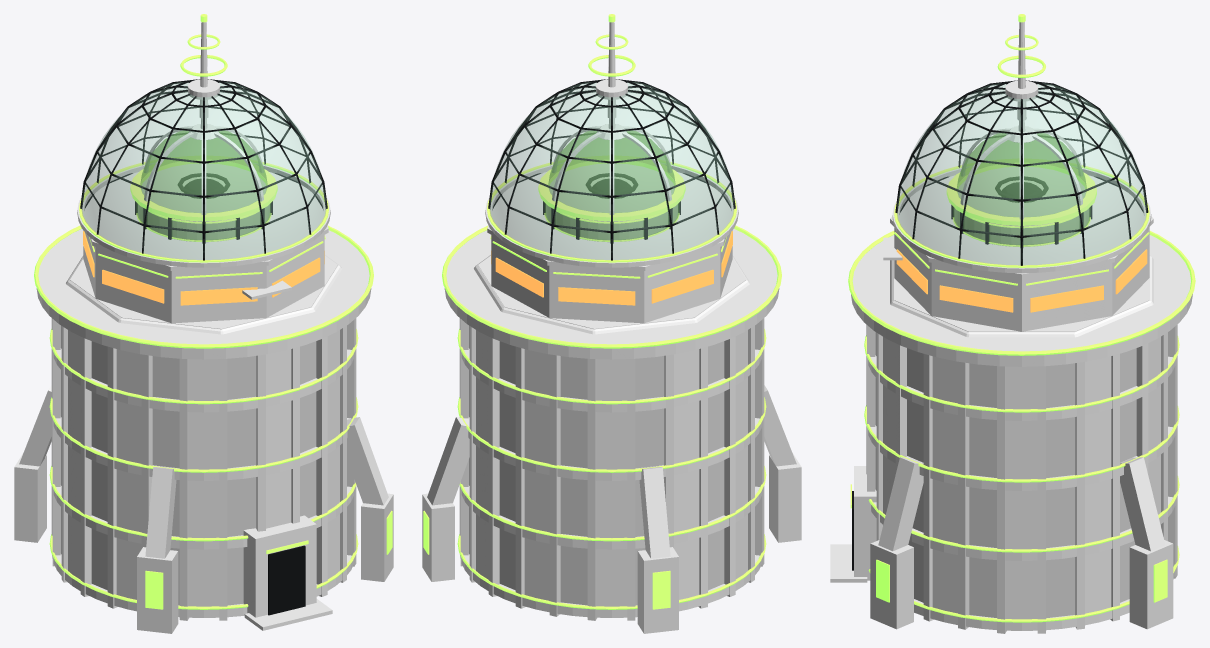
File: sb_lab_t3.glb
3 views of the same model, side by side, from view 1: azimuth 30°, elevation 25°; view 2: azimuth 150°, elevation 25°; view 3: azimuth 270°, elevation 25° (orthographic). The views are drawn at different scales.
Parts seen in each view (by area): view 1: SM_LAB2_GREAT_DOME, SM_LAB3_RIBS, SM_LAB3_WALL, SM_LAB3_GLASS, SM_LAB3_BUTTRESS, SM_LAB3_CROWN, SM_LAB2_HALL, SM_LAB2_HALL_ROOF, SM_LAB3_GLOW, SM_LAB3_FLOORS, SM_LAB2_GREAT_FRAME, SM_LAB_DOME (+15 smaller); view 2: SM_LAB2_GREAT_DOME, SM_LAB3_RIBS, SM_LAB3_WALL, SM_LAB3_GLASS, SM_LAB3_BUTTRESS, SM_LAB3_CROWN, SM_LAB2_HALL, SM_LAB3_GLOW, SM_LAB2_HALL_ROOF, SM_LAB3_FLOORS, SM_LAB2_GREAT_FRAME, SM_LAB_DOME (+13 smaller); view 3: SM_LAB2_GREAT_DOME, SM_LAB3_RIBS, SM_LAB3_WALL, SM_LAB3_GLASS, SM_LAB3_CROWN, SM_LAB3_BUTTRESS, SM_LAB2_HALL, SM_LAB2_HALL_ROOF, SM_LAB3_GLOW, SM_LAB3_FLOORS, SM_LAB2_GREAT_FRAME, SM_LAB_DOME (+15 smaller).
Part boxes in pixels (x1=…): SM_LAB2_GREAT_DOME: x1=81, y1=82, x2=326, y2=259; SM_LAB3_RIBS: x1=51, y1=318, x2=356, y2=620; SM_LAB3_WALL: x1=60, y1=325, x2=339, y2=606; SM_LAB3_GLASS: x1=61, y1=325, x2=316, y2=605; SM_LAB3_BUTTRESS: x1=14, y1=385, x2=393, y2=633; SM_LAB3_CROWN: x1=36, y1=229, x2=371, y2=359; SM_LAB2_HALL: x1=83, y1=230, x2=324, y2=323; SM_LAB2_HALL_ROOF: x1=79, y1=172, x2=328, y2=270; SM_LAB3_GLOW: x1=34, y1=225, x2=392, y2=609; SM_LAB3_FLOORS: x1=52, y1=348, x2=353, y2=617; SM_LAB2_GREAT_FRAME: x1=80, y1=79, x2=327, y2=260; SM_LAB_DOME: x1=140, y1=130, x2=267, y2=212; SM_LAB2_GREAT_DOME: x1=489, y1=82, x2=734, y2=259; SM_LAB3_RIBS: x1=459, y1=318, x2=764, y2=620; SM_LAB3_WALL: x1=468, y1=325, x2=747, y2=606; SM_LAB3_GLASS: x1=469, y1=325, x2=724, y2=605; SM_LAB3_BUTTRESS: x1=422, y1=385, x2=801, y2=633; SM_LAB3_CROWN: x1=444, y1=229, x2=779, y2=359; SM_LAB2_HALL: x1=491, y1=230, x2=732, y2=323; SM_LAB3_GLOW: x1=423, y1=225, x2=781, y2=609; SM_LAB2_HALL_ROOF: x1=487, y1=172, x2=736, y2=270; SM_LAB3_FLOORS: x1=460, y1=348, x2=761, y2=617; SM_LAB2_GREAT_FRAME: x1=488, y1=79, x2=735, y2=260; SM_LAB_DOME: x1=548, y1=130, x2=675, y2=212; SM_LAB2_GREAT_DOME: x1=897, y1=83, x2=1146, y2=265; SM_LAB3_RIBS: x1=866, y1=324, x2=1177, y2=633; SM_LAB3_WALL: x1=875, y1=332, x2=1160, y2=619; SM_LAB3_GLASS: x1=875, y1=332, x2=1136, y2=618; SM_LAB3_CROWN: x1=851, y1=235, x2=1192, y2=366; SM_LAB3_BUTTRESS: x1=870, y1=457, x2=1173, y2=629; SM_LAB2_HALL: x1=894, y1=227, x2=1149, y2=331; SM_LAB2_HALL_ROOF: x1=890, y1=175, x2=1153, y2=278; SM_LAB3_GLOW: x1=848, y1=231, x2=1195, y2=622; SM_LAB3_FLOORS: x1=866, y1=355, x2=1175, y2=630; SM_LAB2_GREAT_FRAME: x1=895, y1=80, x2=1148, y2=265; SM_LAB_DOME: x1=957, y1=133, x2=1086, y2=217.
Bounding box in the file's own units: 33.74 × 59.21 × 35.47.
